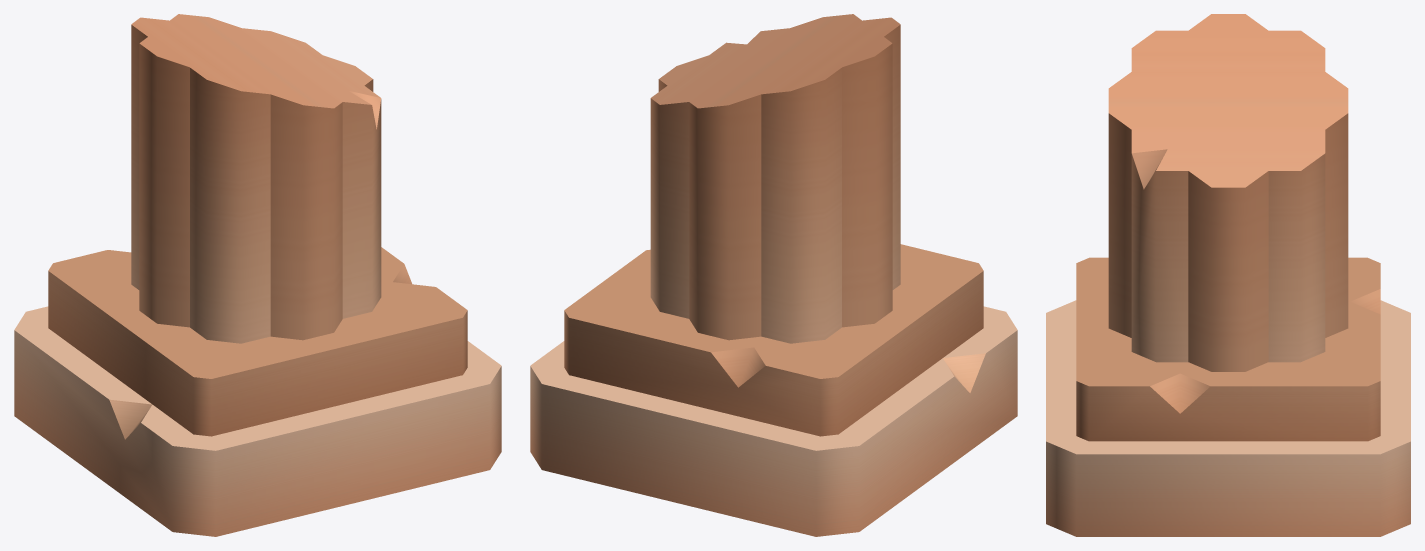
The model's file is column-damaged.obj.
3 renders of one model, left to right at view 1: azimuth 30°, elevation 25°; view 2: azimuth 150°, elevation 25°; view 3: azimuth 270°, elevation 25°, orthographic. The views are drawn at different scales.
Visible parts, largest first — view 1: column-damaged; view 2: column-damaged; view 3: column-damaged.
Part boxes in pixels (<box>): column-damaged: <box>14,14,501,536</box>; column-damaged: <box>530,14,1017,536</box>; column-damaged: <box>1046,14,1410,536</box>.
Size of the model in its own units: 0.6 by 0.7157 by 0.6.
Materials: 1 (1 with a texture image).
